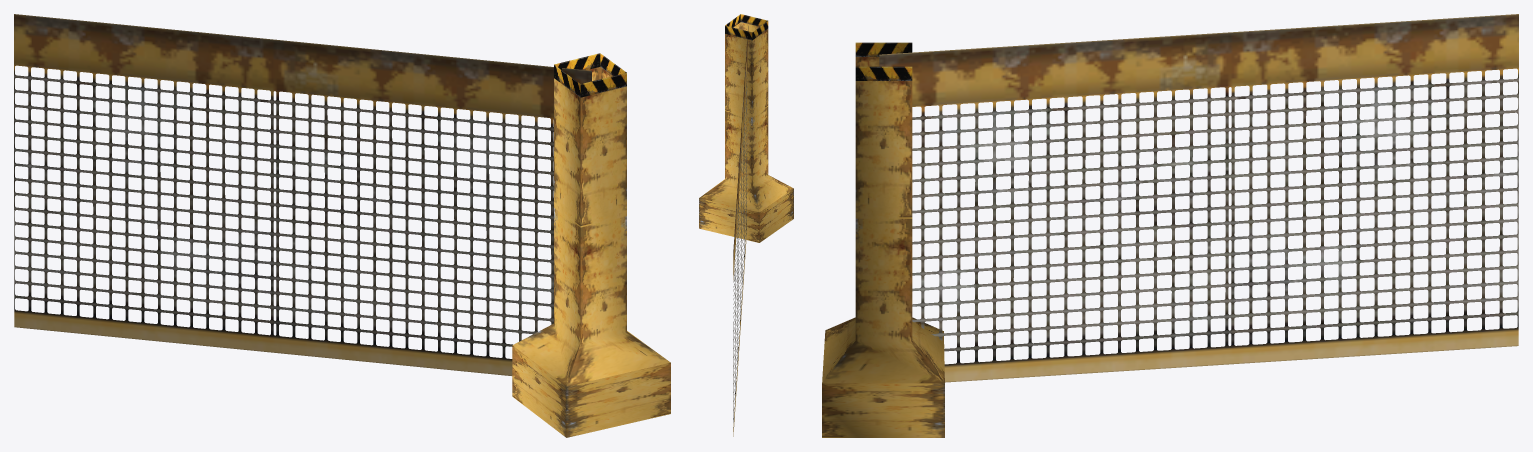
The model's file is High_fence_short.fbx.
The picture shows the model from 3 angles, left to right: view 1: azimuth 30°, elevation 25°; view 2: azimuth 150°, elevation 25°; view 3: azimuth 270°, elevation 25°; orthographic projection. The views are drawn at different scales.
Visible parts, largest first — view 1: Mesh_0113.rip, Mesh_0112.rip; view 2: Mesh_0112.rip, Mesh_0113.rip; view 3: Mesh_0113.rip, Mesh_0112.rip.
Part boxes in pixels (x1,y1,x2,y2): Mesh_0113.rip: (14,14,591,375); Mesh_0112.rip: (512,53,670,437); Mesh_0112.rip: (699,14,793,242); Mesh_0113.rip: (733,26,748,436); Mesh_0113.rip: (879,14,1518,382); Mesh_0112.rip: (822,42,944,437).
Bounding box in the file's own units: 425 × 508 × 737.
Materials: 2 (2 with a texture image).
